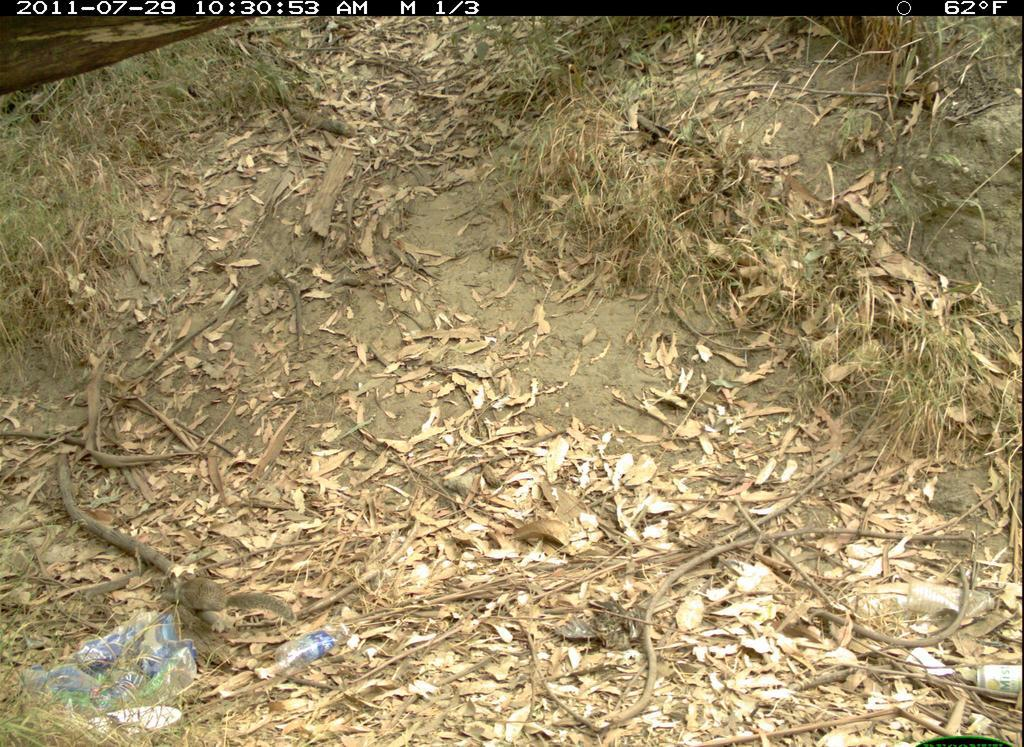squirrel: (157, 568, 296, 633)
